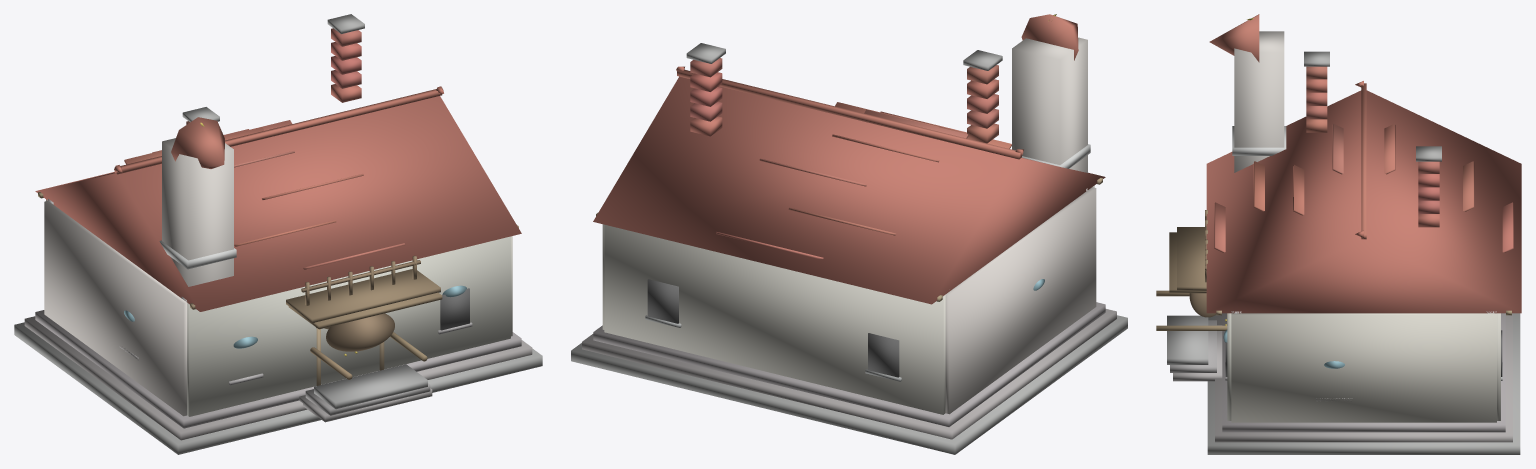
File: building_upgrade_l5.glb
The picture shows the model from 3 angles, left to right: view 1: azimuth 30°, elevation 25°; view 2: azimuth 150°, elevation 25°; view 3: azimuth 270°, elevation 25°; orthographic projection. The views are drawn at different scales.
Visible parts, largest first — view 1: roof_body, front, side_-1, tower_body, foundation0, foundation1, foundation2, balcony_floor, step2, ridge, tower_cone, porch_arch (+6 smaller); view 2: roof_body, back, side_-1, foundation0, tower_body, foundation1, foundation2, ridge, tower_cone, open0, open1, chim_-1.9_cap (+1 smaller); view 3: roof_body, side_1, tower_body, foundation0, foundation1, foundation2, step2, balcony_floor, tower_cone, ridge, step1, step0 (+15 smaller).
Part boxes in pixels (x1=…): roof_body: x1=35, y1=96, x2=521, y2=311; front: x1=187, y1=236, x2=510, y2=416; side_-1: x1=44, y1=201, x2=187, y2=416; tower_body: x1=162, y1=138, x2=233, y2=286; foundation0: x1=14, y1=322, x2=542, y2=454; foundation1: x1=24, y1=316, x2=532, y2=440; foundation2: x1=35, y1=310, x2=521, y2=428; balcony_floor: x1=286, y1=269, x2=440, y2=323; step2: x1=314, y1=364, x2=427, y2=409; ridge: x1=114, y1=89, x2=442, y2=174; tower_cone: x1=171, y1=117, x2=224, y2=168; porch_arch: x1=326, y1=313, x2=394, y2=351; roof_body: x1=593, y1=76, x2=1105, y2=304; back: x1=604, y1=224, x2=945, y2=414; side_-1: x1=945, y1=187, x2=1096, y2=414; foundation0: x1=571, y1=315, x2=1127, y2=454; tower_body: x1=1012, y1=37, x2=1087, y2=172; foundation1: x1=582, y1=309, x2=1116, y2=439; foundation2: x1=593, y1=302, x2=1105, y2=426; ridge: x1=677, y1=69, x2=1021, y2=159; tower_cone: x1=1021, y1=14, x2=1078, y2=60; open0: x1=868, y1=333, x2=899, y2=377; open1: x1=647, y1=279, x2=678, y2=323; chim_-1.9_cap: x1=963, y1=50, x2=1002, y2=70; roof_body: x1=1206, y1=90, x2=1521, y2=313; side_1: x1=1231, y1=313, x2=1496, y2=422; tower_body: x1=1234, y1=31, x2=1284, y2=172; foundation0: x1=1207, y1=313, x2=1520, y2=454; foundation1: x1=1215, y1=313, x2=1512, y2=442; foundation2: x1=1222, y1=313, x2=1505, y2=432; step2: x1=1167, y1=315, x2=1208, y2=364; balcony_floor: x1=1177, y1=227, x2=1206, y2=290; tower_cone: x1=1209, y1=14, x2=1259, y2=62; ridge: x1=1361, y1=83, x2=1366, y2=239; step1: x1=1170, y1=320, x2=1216, y2=372; step0: x1=1173, y1=325, x2=1222, y2=381.
Size of the model in its own units: 6.8 by 5.47 by 6.19.
